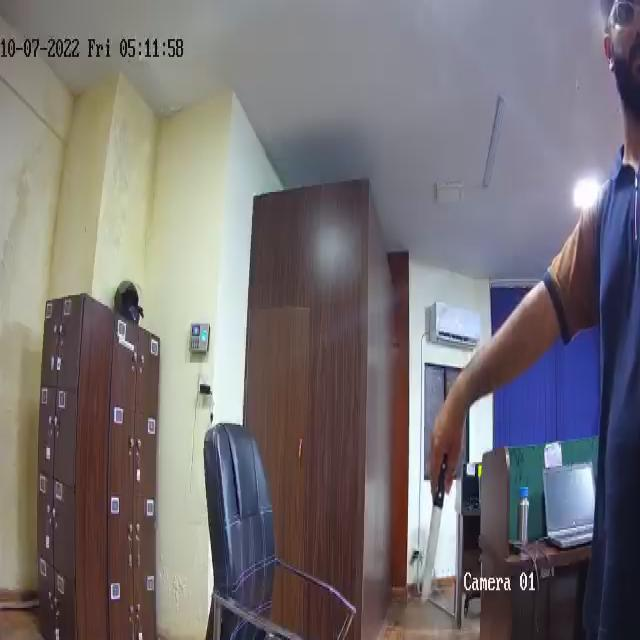Knife: (421, 455, 453, 617)
